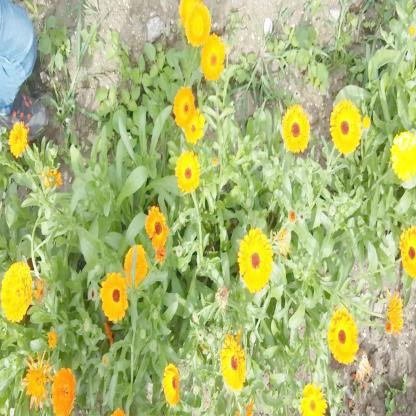marigold: (239, 230, 273, 293), (2, 264, 31, 322), (333, 98, 362, 154), (123, 241, 150, 292), (282, 103, 310, 152), (329, 312, 357, 361), (222, 336, 247, 388), (185, 1, 211, 48), (101, 274, 126, 322), (392, 131, 414, 182), (174, 150, 198, 193), (145, 206, 168, 248), (182, 104, 205, 145), (52, 370, 74, 412), (203, 37, 224, 80), (302, 382, 329, 415), (172, 86, 193, 128), (400, 228, 415, 281), (41, 159, 63, 192), (164, 362, 182, 402), (8, 121, 28, 155), (384, 295, 401, 332)
